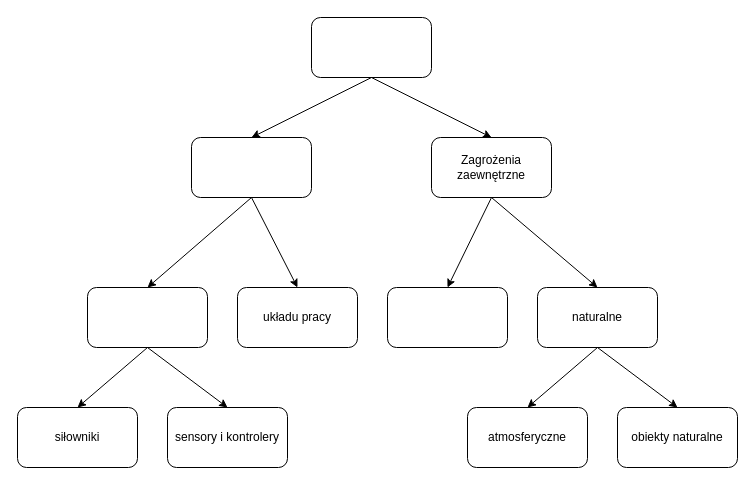
This 755x485 diagram has some shape labels left out. The shapes that lost their labels are listed below. From the top down, each one's centre as x and y in pixels, then its label:
the point at 371,47: Zagrożenia
the point at 251,167: Zagrożenia wewnętrzne
the point at 147,317: układu sterowania
the point at 447,317: spowodowane działaniami człowieka
